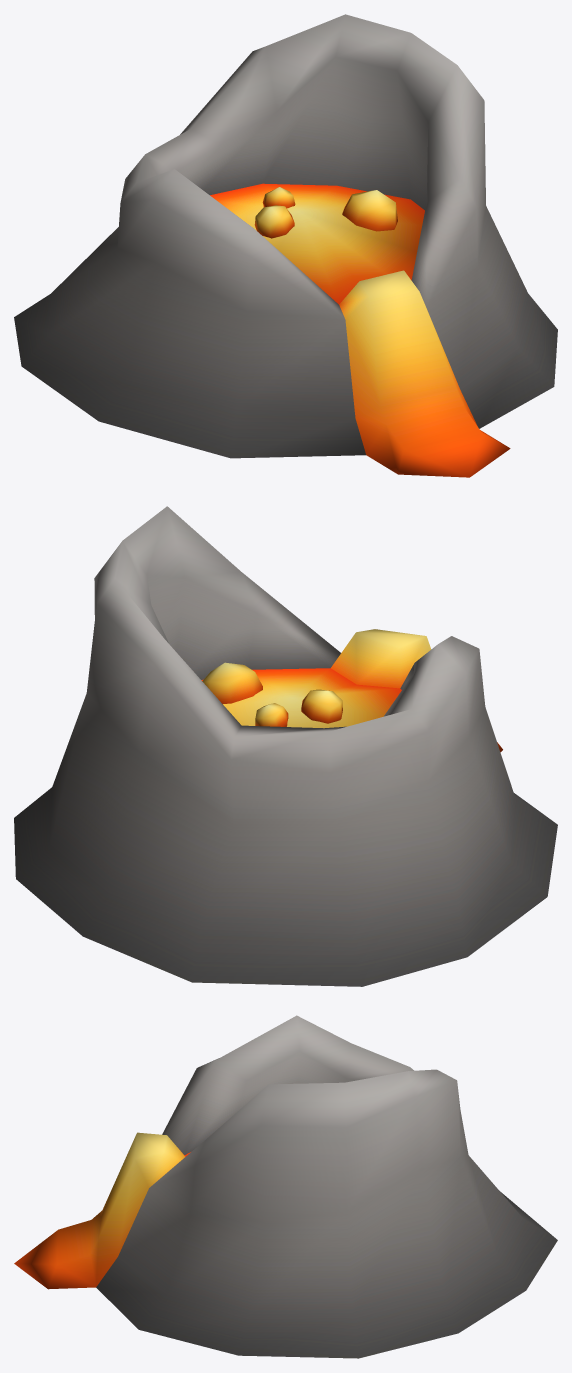
Rendered from m_Crater01_A.fbx.
3 renders of one model, top to bottom at view 1: azimuth 30°, elevation 25°; view 2: azimuth 150°, elevation 25°; view 3: azimuth 270°, elevation 25°, orthographic. The views are drawn at different scales.
Visible parts, largest first — view 1: m_Crater01_A; view 2: m_Crater01_A; view 3: m_Crater01_A.
Part boxes in pixels (left/top/right/bottom): m_Crater01_A: left=14, top=14, right=557, bottom=477; m_Crater01_A: left=14, top=506, right=557, bottom=986; m_Crater01_A: left=14, top=1015, right=557, bottom=1358.
Bounding box in the file's own units: 596 × 348 × 725.
